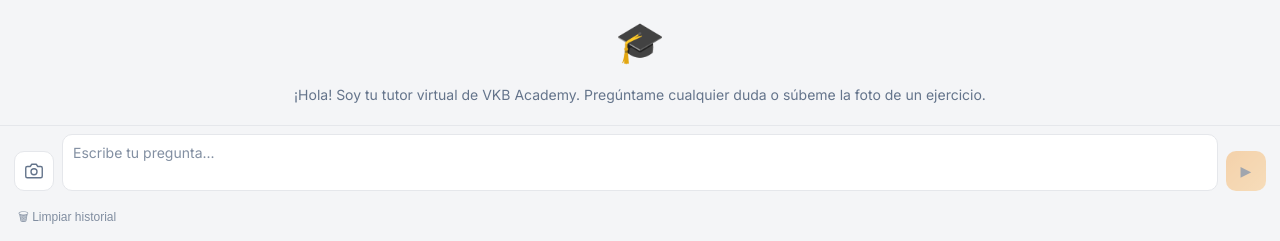
TutorChat › sin practice en la respuesta, no hay chip
This screenshot has width=1280, height=241.
Type "Hola" into the text box with placeholder "Escribe tu pregunta..." at (640,163), box x1=62 y1=134 x2=1218 y2=191
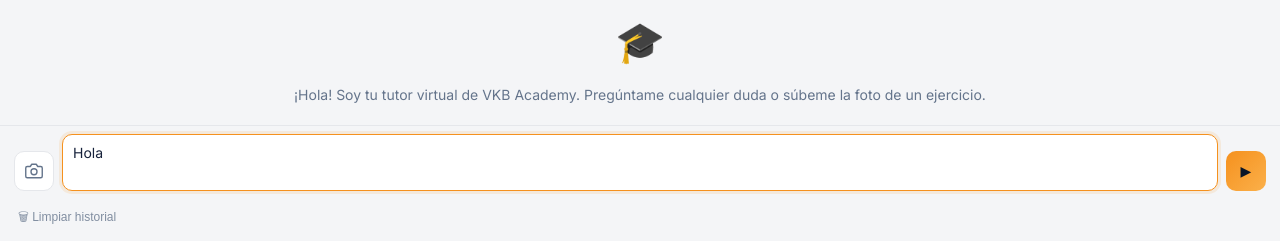
Click the button named "enviar" at (1246,171), box x1=1226 y1=151 x2=1266 y2=191
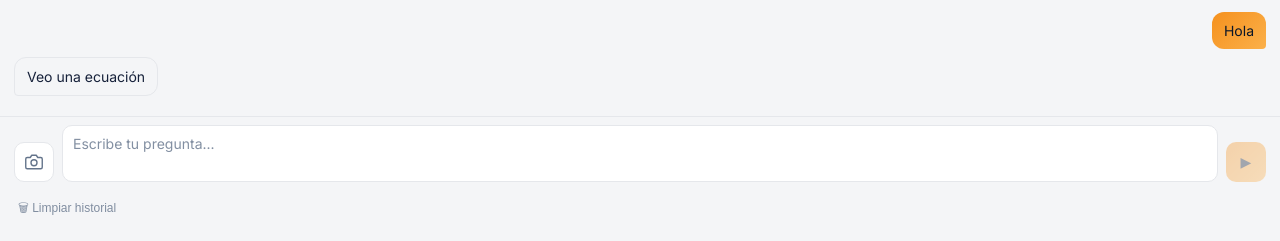
Check: the text "Veo una ecuación" is shown, box x1=27 y1=66 x2=145 y2=87
